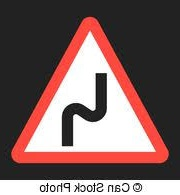Double_bend_right: (10, 17, 171, 165)
